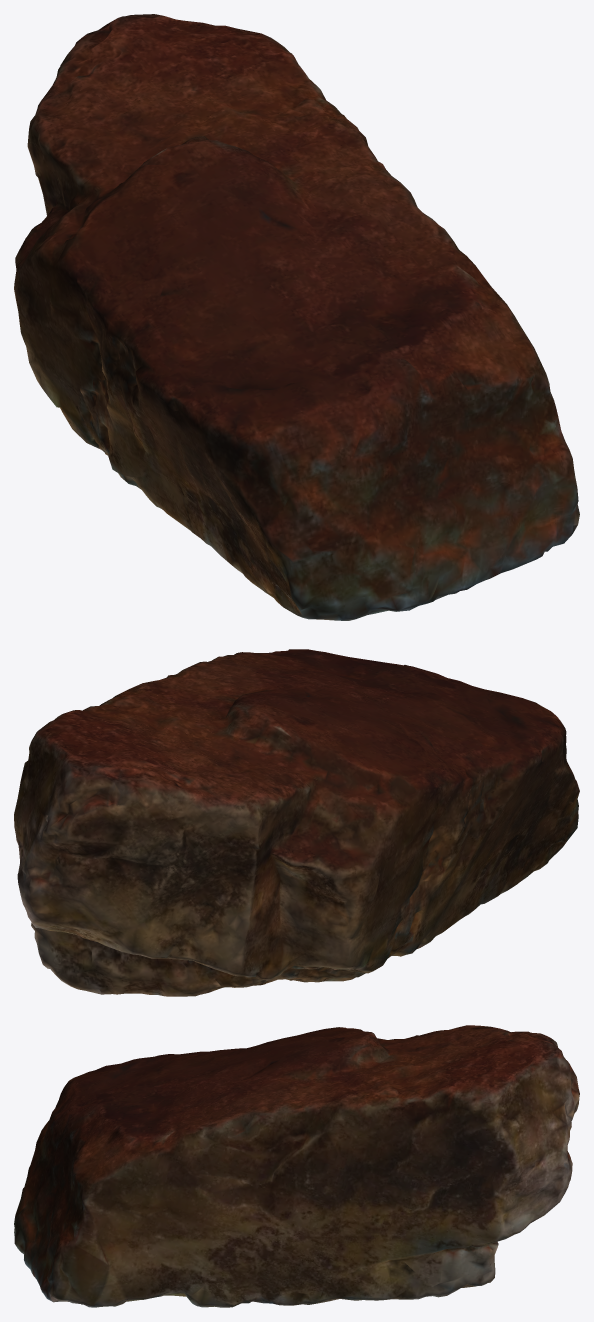
The model's file is rock-07.glb.
3 renders of one model, top to bottom at view 1: azimuth 30°, elevation 25°; view 2: azimuth 150°, elevation 25°; view 3: azimuth 270°, elevation 25°, orthographic. The views are drawn at different scales.
Parts seen in each view (by area): view 1: rock_07; view 2: rock_07; view 3: rock_07.
Boxes of the visible parts, box(x1,y1,x2,y2) form: rock_07: box(14, 14, 579, 620); rock_07: box(14, 649, 579, 996); rock_07: box(14, 1025, 579, 1307).
Size of the model in its own units: 0.1689 by 0.1437 by 0.3203.
1 material, 1 textured.
